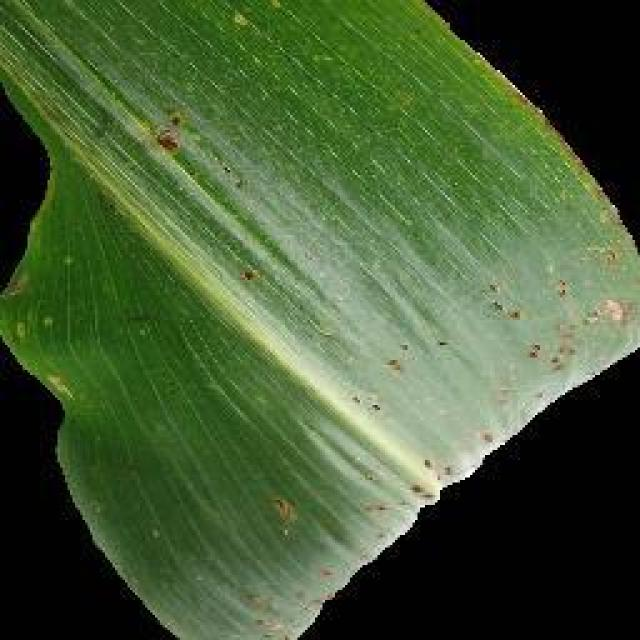Corn Common Rust: (195, 120, 603, 502)
